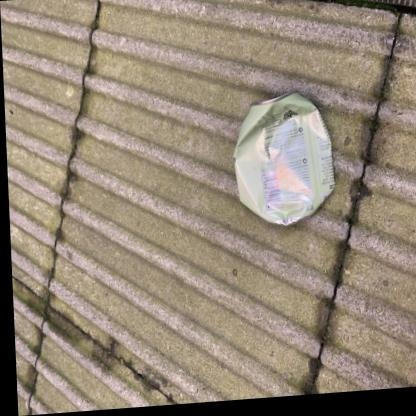trash: (234, 93, 334, 224)
